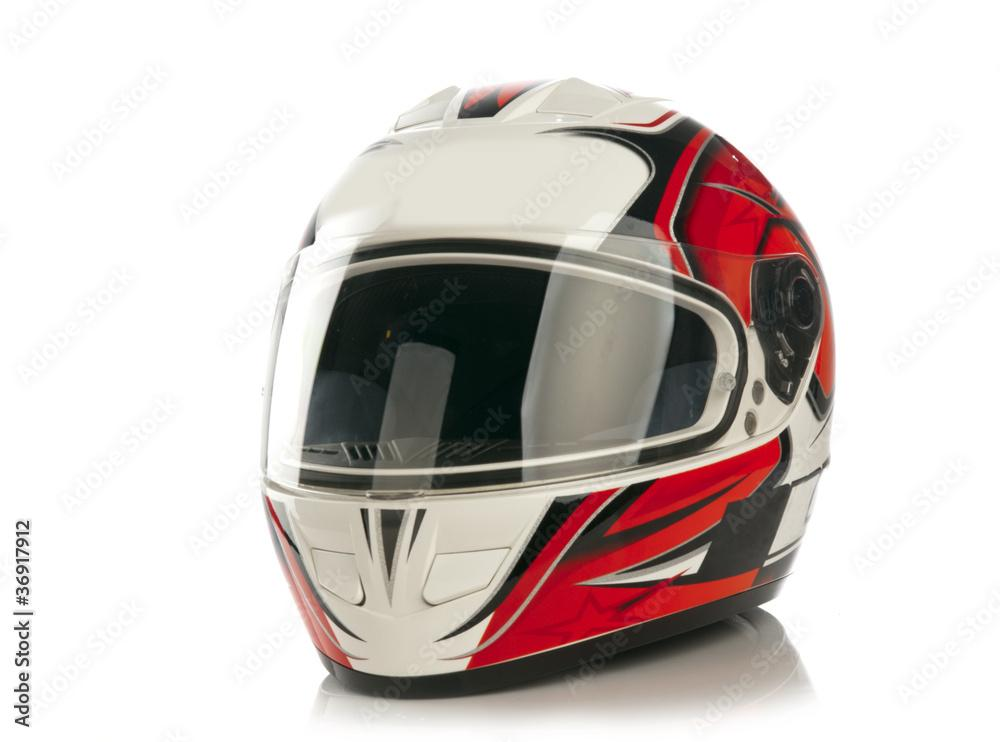helmet: (254, 70, 840, 704)
